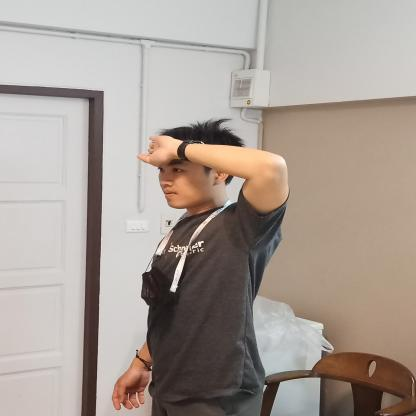Sick: (46, 96, 237, 216)
